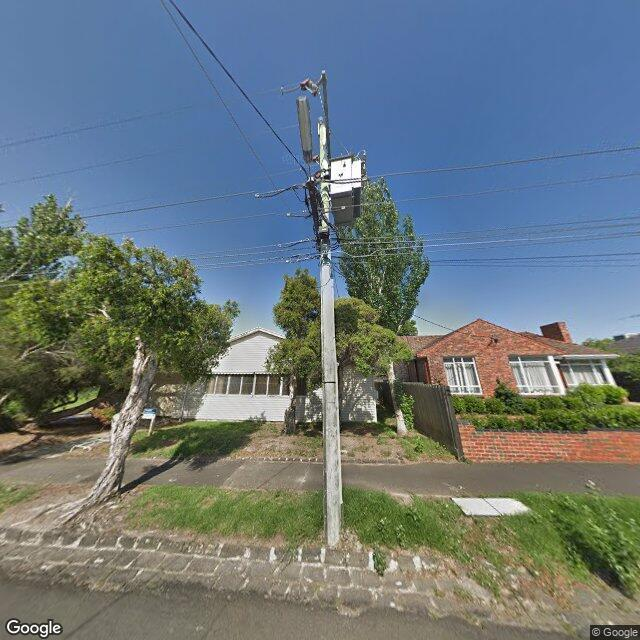HV-transmission: (300, 66, 330, 177)
crossarm: (255, 180, 321, 264), (321, 70, 328, 122)
streetlight: (296, 94, 313, 180)
timber-pole: (318, 121, 343, 547)
transformer: (329, 149, 368, 225)
